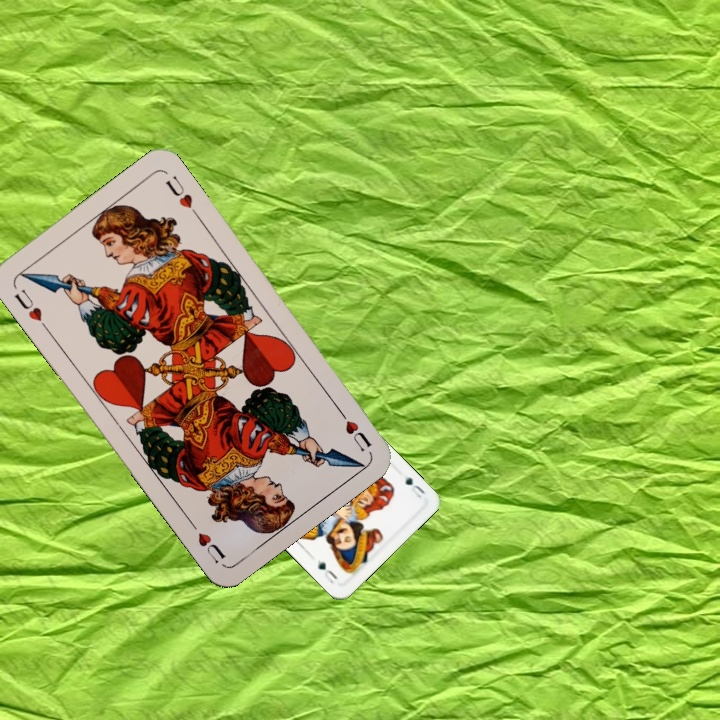GU: (400, 471, 428, 500)
HU: (333, 403, 374, 455), (10, 284, 51, 333)
